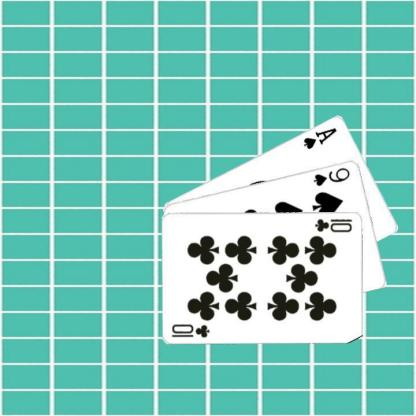10C: (312, 215, 354, 233), (169, 320, 211, 338)
9S: (311, 165, 351, 187)
AS: (301, 125, 338, 150)
